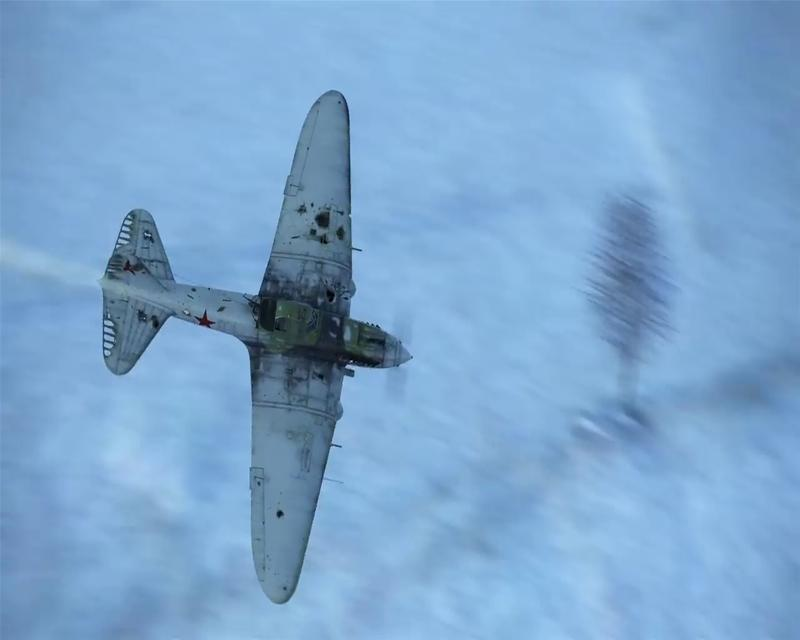UAV: (96, 90, 413, 605)
